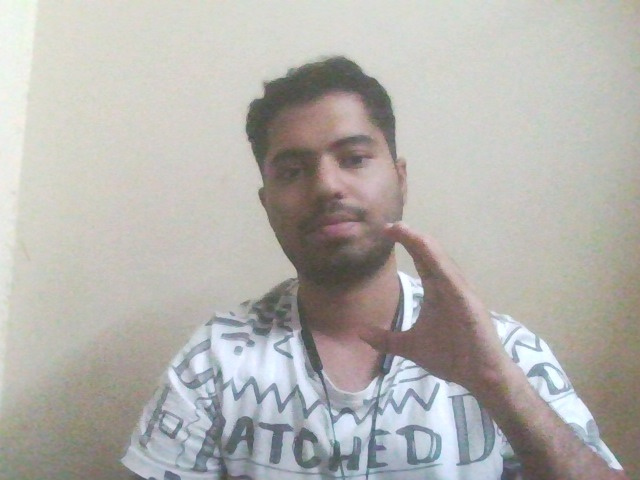No: (351, 212, 524, 390)
